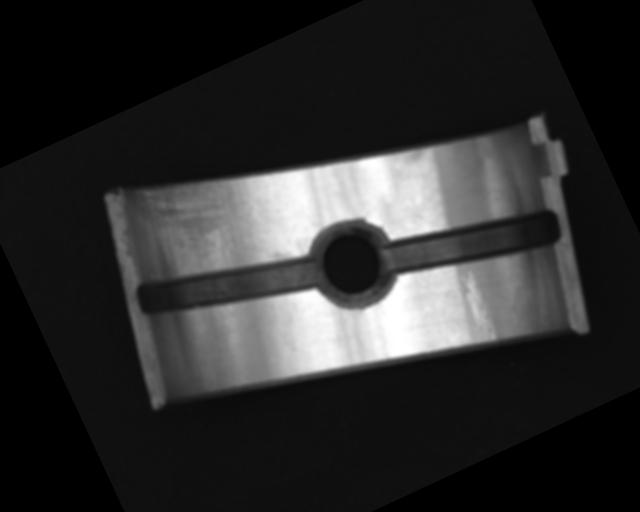gap: (132, 215, 326, 358), (376, 177, 568, 313)
hole: (294, 203, 411, 324)
nick: (454, 268, 503, 347)
scratch: (126, 141, 293, 309)
